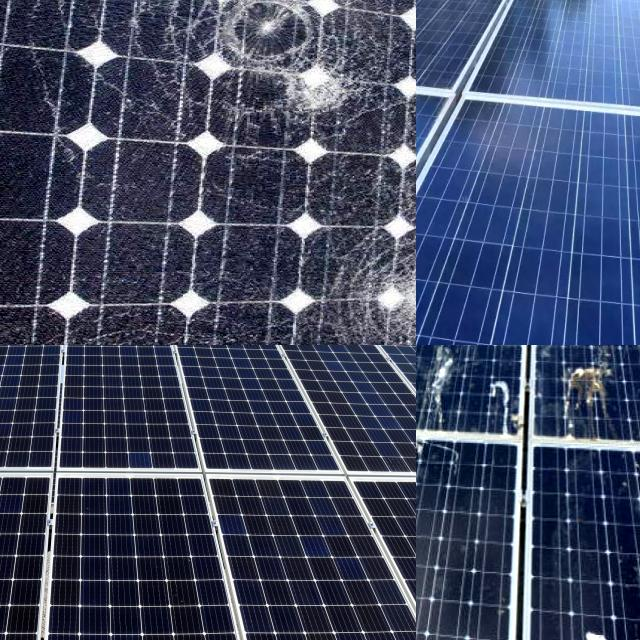bird: (558, 354, 612, 419), (416, 440, 441, 551), (416, 415, 454, 488), (545, 345, 602, 374), (451, 345, 512, 371), (571, 612, 620, 640), (416, 396, 436, 457), (416, 345, 447, 375), (416, 345, 440, 381), (445, 345, 476, 360), (416, 345, 436, 364), (416, 345, 432, 367), (416, 621, 432, 640), (416, 345, 428, 368), (416, 345, 425, 363)
crack: (416, 114, 640, 345), (20, 461, 281, 640), (194, 470, 416, 640), (157, 345, 345, 509), (39, 345, 202, 513), (268, 345, 416, 520), (458, 0, 640, 132), (0, 468, 121, 640), (0, 345, 83, 513)
hotspot: (216, 0, 371, 129), (323, 205, 416, 345), (0, 0, 144, 51), (307, 0, 416, 34)
